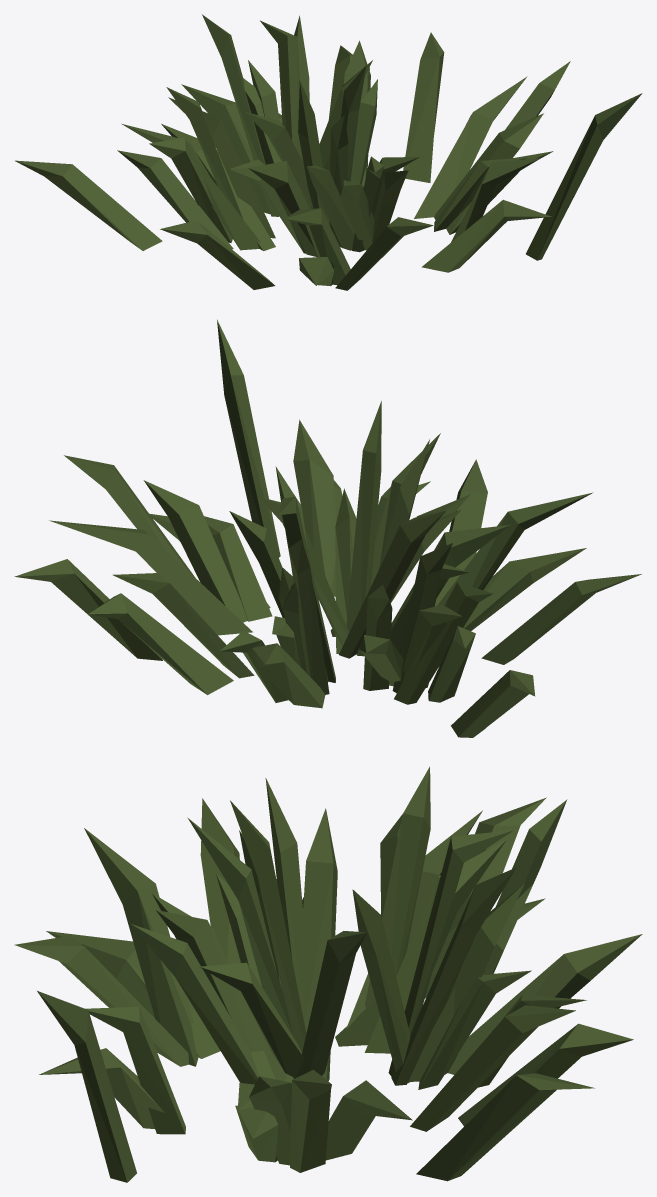
Rendered from SM_Env_Grass_02.glb.
3 views of the same model, one above another, from view 1: azimuth 30°, elevation 25°; view 2: azimuth 150°, elevation 25°; view 3: azimuth 270°, elevation 25° (orthographic). The views are drawn at different scales.
Visible parts, largest first — view 1: SM_Env_Grass_02; view 2: SM_Env_Grass_02; view 3: SM_Env_Grass_02.
Part boxes in pixels (x1=…): SM_Env_Grass_02: x1=15, y1=14, x2=642, y2=290; SM_Env_Grass_02: x1=14, y1=319, x2=641, y2=737; SM_Env_Grass_02: x1=14, y1=766, x2=642, y2=1182.
Size of the model in its own units: 0.0403 by 0.0157 by 0.0315.
